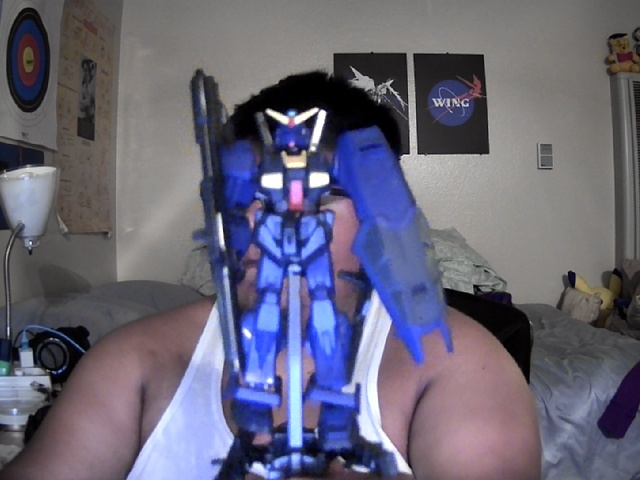Mk-11-Titans: (188, 69, 454, 451)
